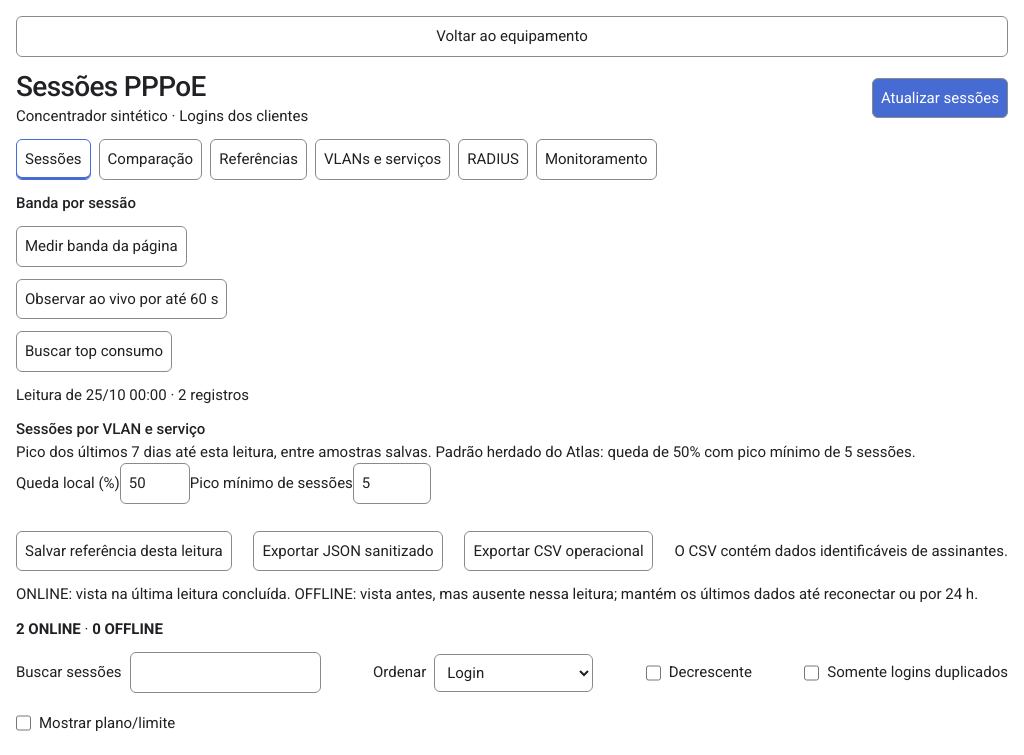
Test: L06C-UX: references have their own tab and session states have an explanation
Check: the heading "Referências preservadas" is not shown
Check: the text "2 ONLINE" is shown, box [16, 620, 81, 638]
Click the tab "Referências" at [259, 160], box [210, 139, 307, 180]
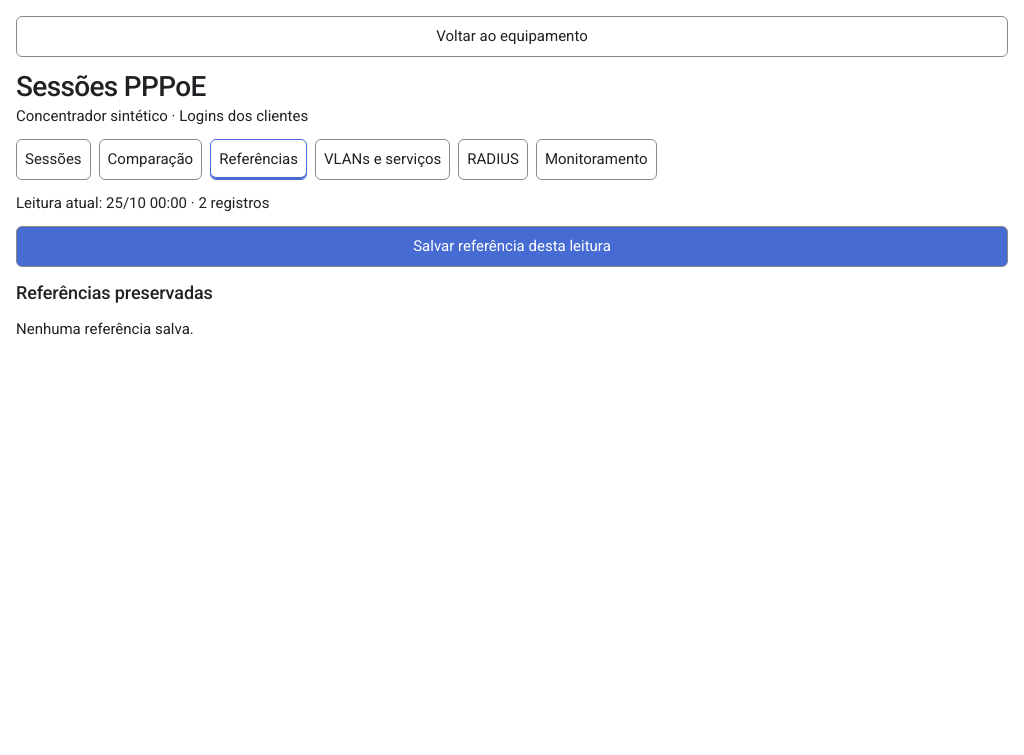
Check: the heading "Referências preservadas" is shown, box [16, 282, 213, 303]
